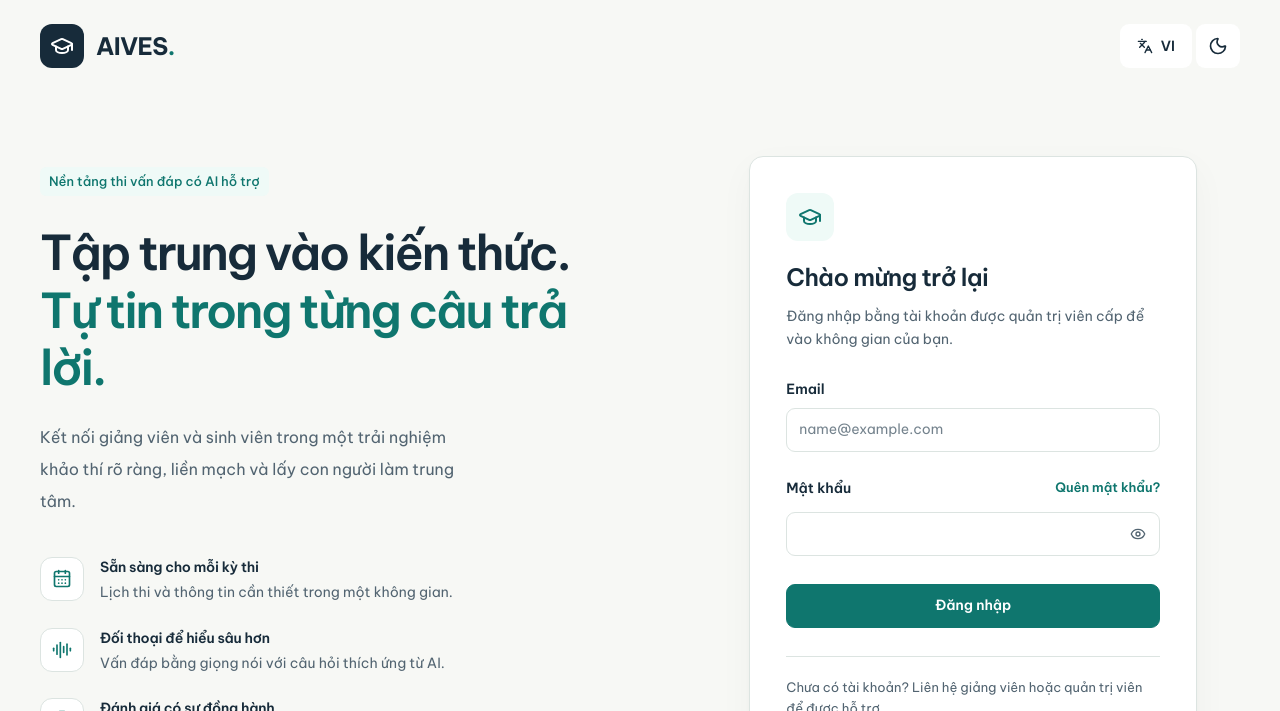
Test: authentication exceptions › rejects missing email  without a request
The image size is (1280, 711).
Type " password123 " into the password field labelled "Mật khẩu". click: (973, 534)
box: [786,512,1160,556]
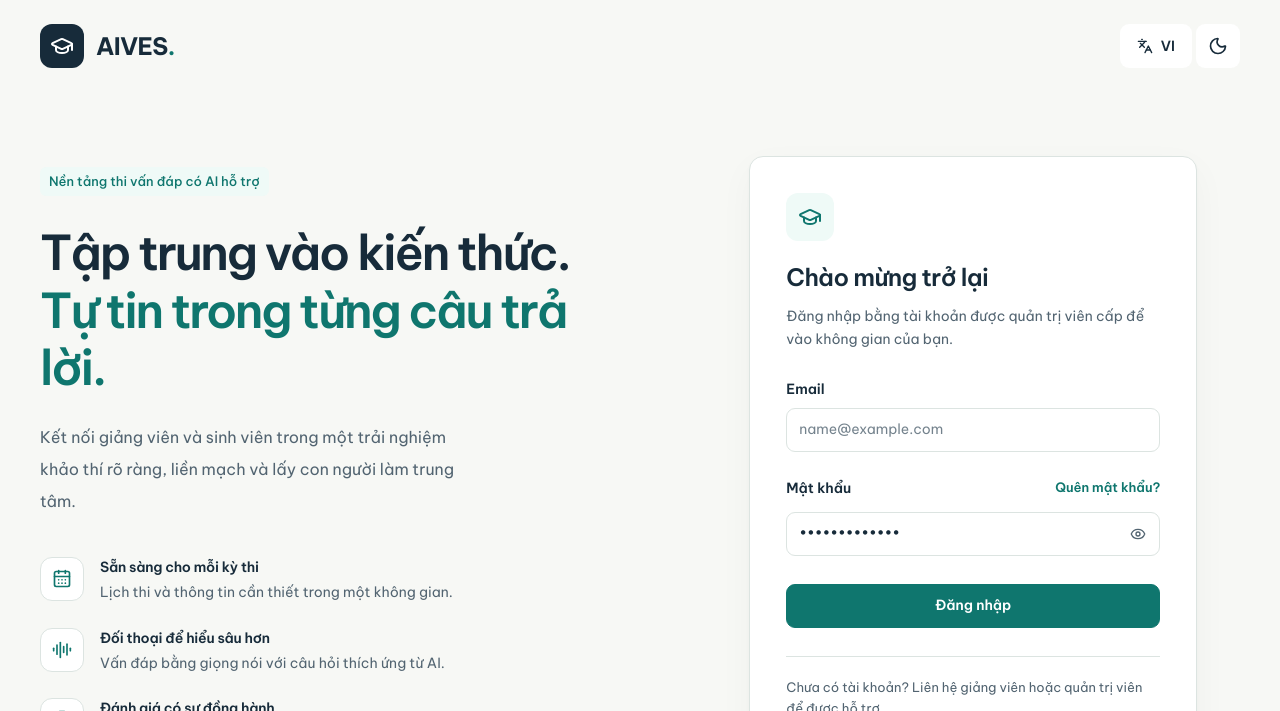
Submit the form, box [786,378,1160,628]
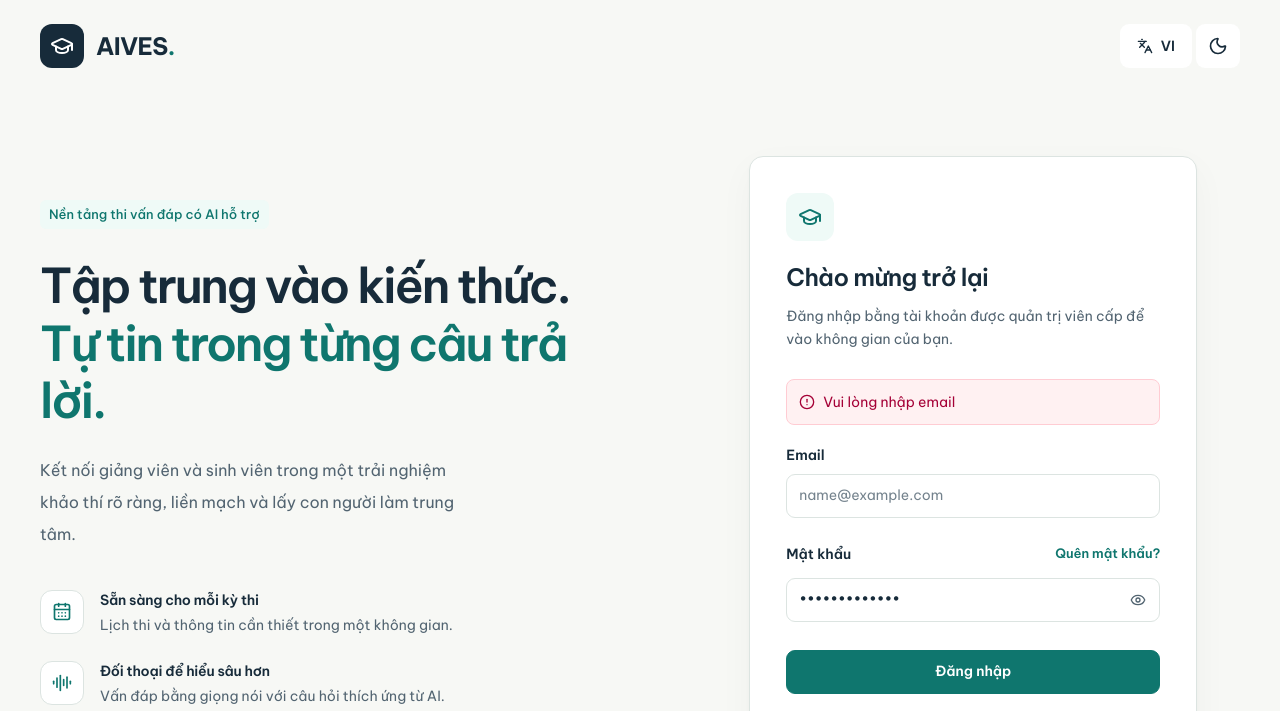
Now the message reads "Vui lòng nhập email", box [823,392,955,410]
